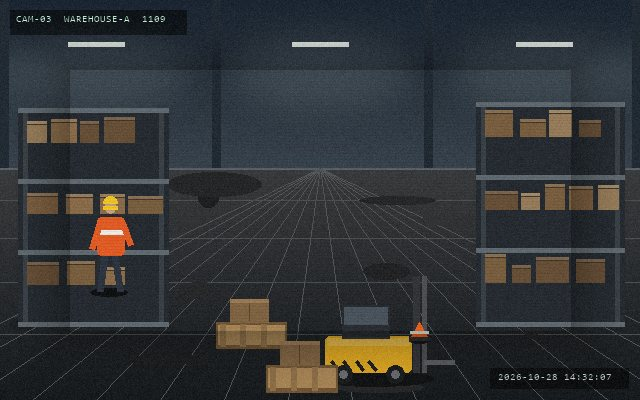cone: (408, 320, 430, 343)
forklift: (321, 274, 456, 386)
pallet: (264, 363, 339, 394), (214, 320, 288, 350)
person: (89, 194, 132, 295)
shelf: (476, 102, 624, 322), (18, 108, 168, 322)
